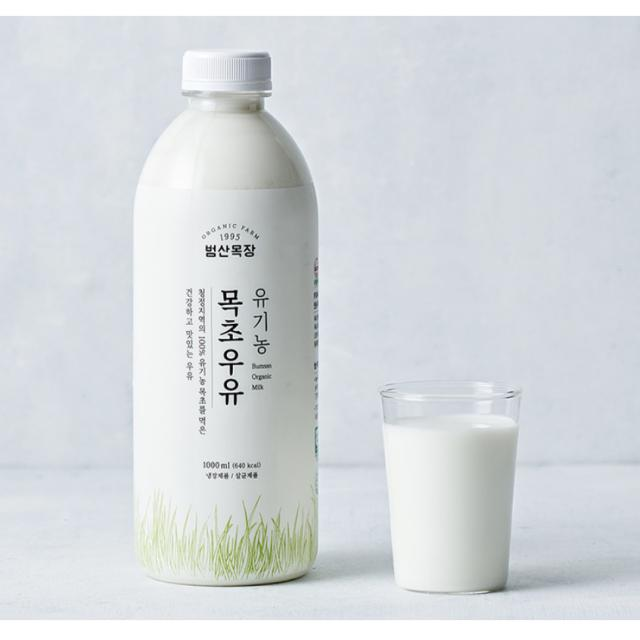recyclable: (90, 26, 358, 600), (363, 354, 535, 614)
